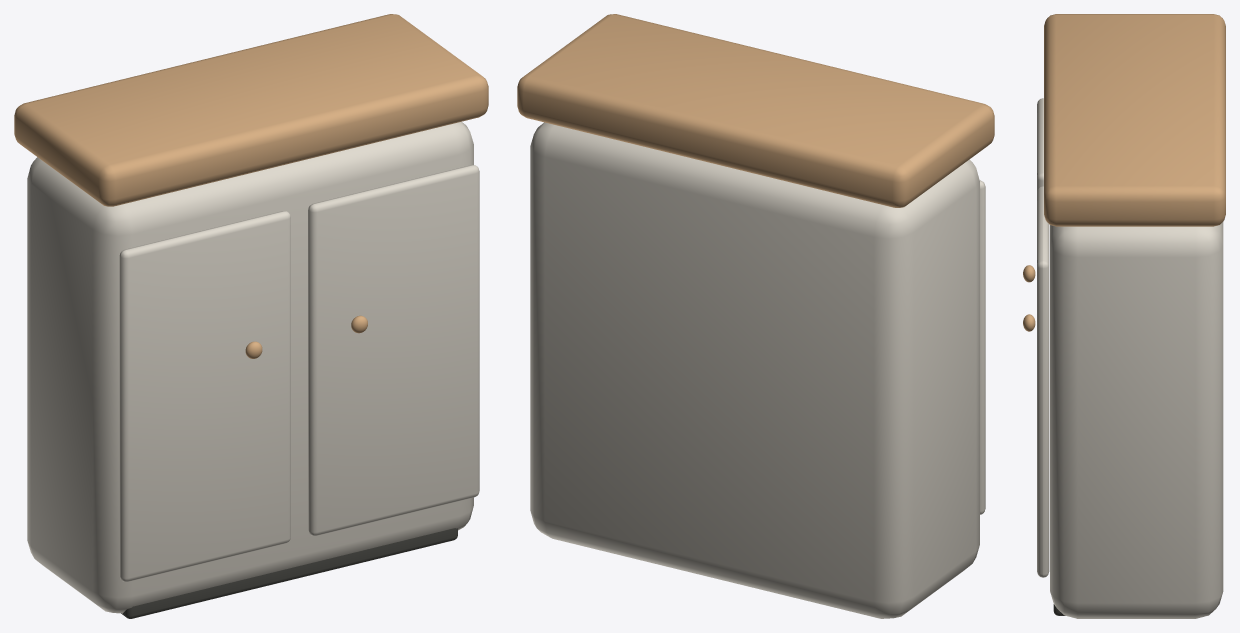
The model's file is storage-cabinet.glb.
3 renders of one model, left to right at view 1: azimuth 30°, elevation 25°; view 2: azimuth 150°, elevation 25°; view 3: azimuth 270°, elevation 25°, orthographic. The views are drawn at different scales.
Parts seen in each view (by area): view 1: carcass, door.001, door, worktop, toe-kick; view 2: carcass, worktop, door; view 3: carcass, worktop, door.001, door.
Boxes of the visible parts, bbox=[...] form: carcass: bbox=[27, 121, 473, 613]; door.001: bbox=[308, 165, 479, 535]; door: bbox=[119, 211, 290, 581]; worktop: bbox=[14, 14, 488, 206]; toe-kick: bbox=[121, 528, 457, 618]; carcass: bbox=[530, 122, 979, 618]; worktop: bbox=[517, 14, 994, 207]; door: bbox=[979, 180, 985, 514]; carcass: bbox=[1050, 222, 1223, 618]; worktop: bbox=[1044, 14, 1225, 226]; door.001: bbox=[1037, 186, 1049, 577]; door: bbox=[1037, 98, 1043, 191].
Size of the model in its own units: 1.24 by 1.4 by 0.5855.
